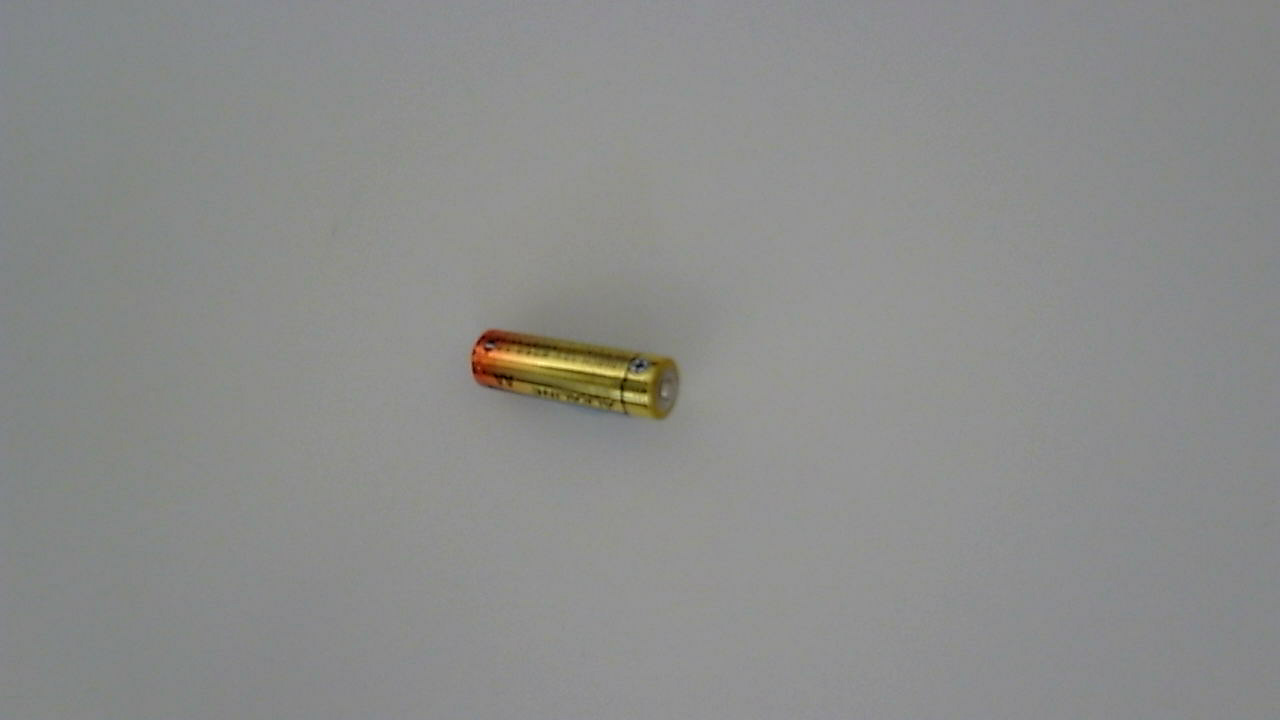Battery: (472, 329, 691, 434)
